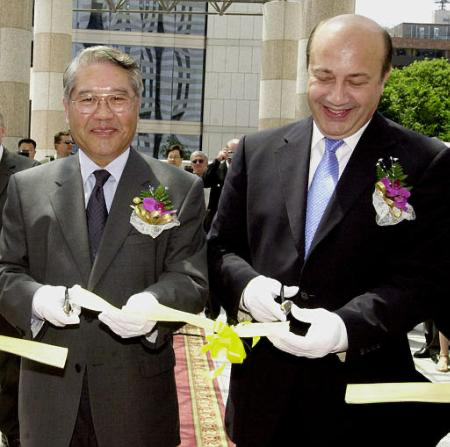Face: (311, 30, 384, 141), (62, 71, 137, 153), (54, 134, 76, 160), (17, 138, 38, 164), (189, 152, 205, 182), (165, 149, 182, 172)
